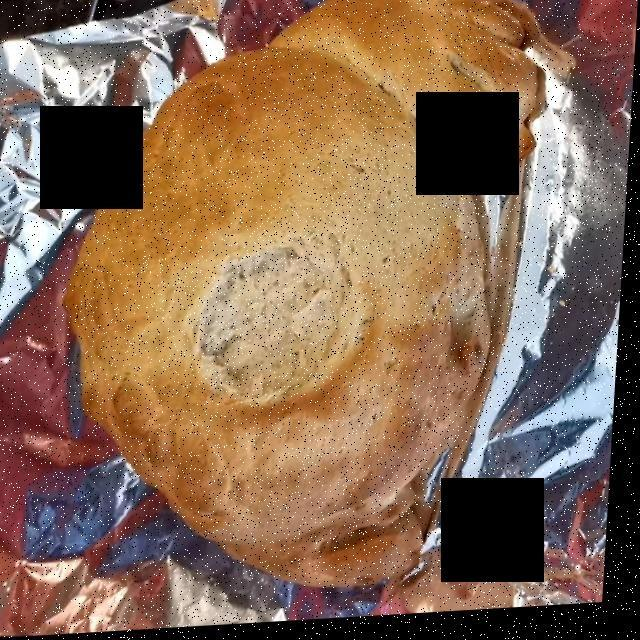bread: (75, 0, 534, 578)
